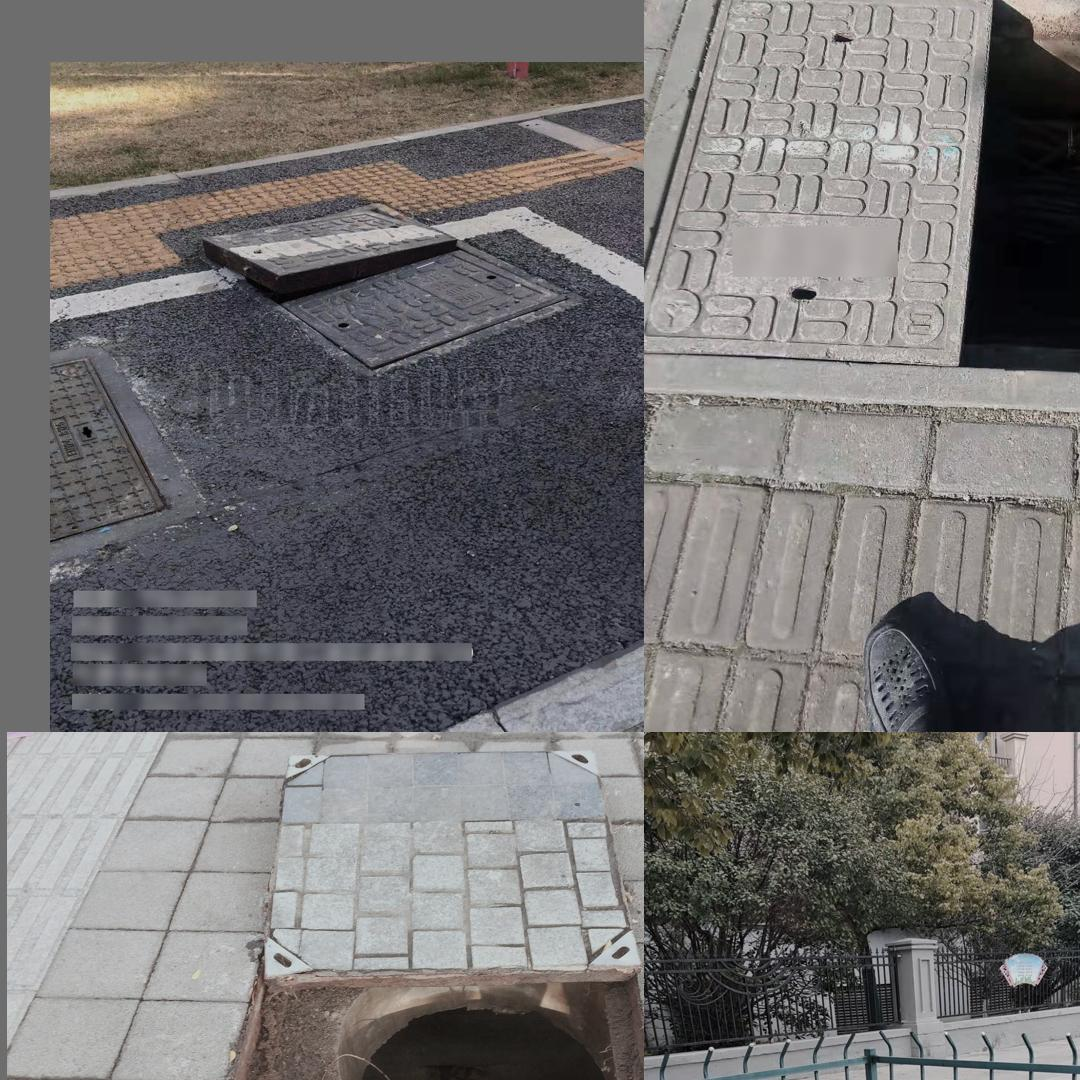uncovered: (717, 0, 1080, 421), (201, 742, 631, 1080), (195, 204, 582, 375)
